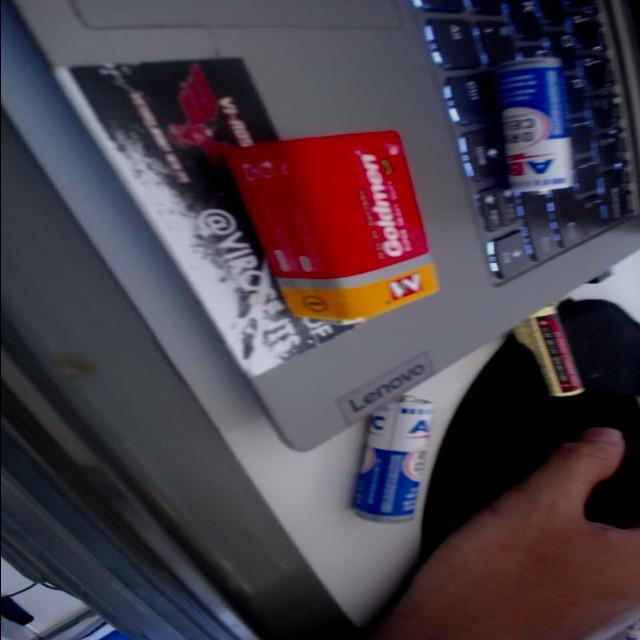9V: (219, 118, 449, 340)
AA: (332, 382, 461, 542), (490, 50, 580, 206)
AAA: (496, 305, 600, 403)
